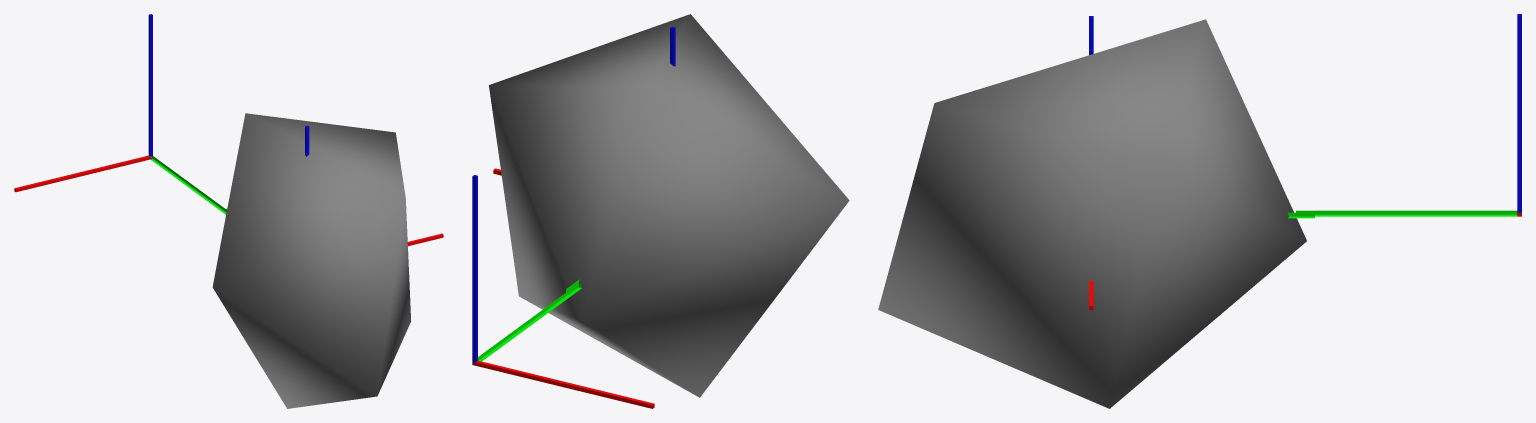
File: petrobolos-a.glb
The picture shows the model from 3 angles, left to right: view 1: azimuth 30°, elevation 25°; view 2: azimuth 150°, elevation 25°; view 3: azimuth 270°, elevation 25°; orthographic projection. The views are drawn at different scales.
Parts seen in each view (by area): view 1: petro-aModel, Dummy_fire; view 2: petro-aModel, Dummy_fire, Dummy_hotspot; view 3: petro-aModel, Dummy_fire.
Boxes of the visible parts, x1,y1,x2,y2 form: petro-aModel: [212, 113, 411, 408]; Dummy_fire: [14, 14, 226, 214]; petro-aModel: [489, 14, 849, 397]; Dummy_fire: [472, 175, 654, 408]; Dummy_hotspot: [493, 26, 675, 292]; petro-aModel: [878, 19, 1306, 408]; Dummy_fire: [1296, 14, 1521, 216].
Size of the model in its own units: 0.5 by 0.4824 by 0.7267.
2 materials, 1 textured.
